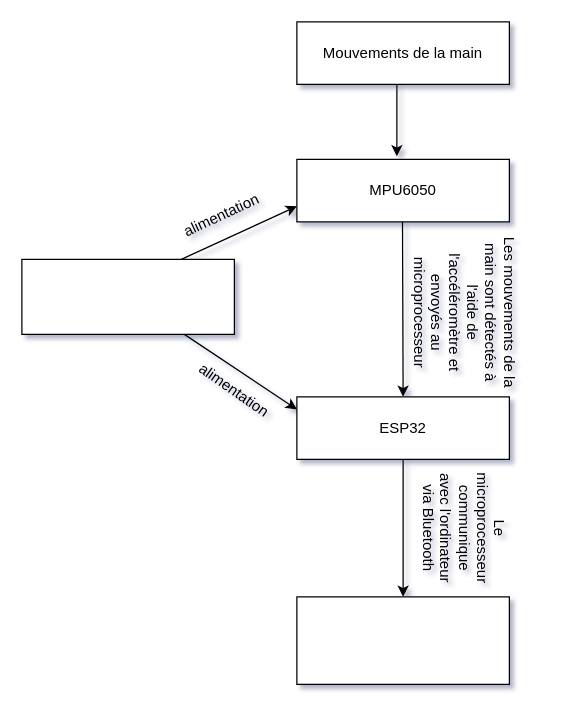
The diagram is 588 pixels wide and 714 high, and some of its shapes have lost their labels. Here are the shapes that lost their labels. From the top down, the centre of each, then its label:
the point at 127,296: LiPo Battery
the point at 402,640: Ordinateur / Ecran d'ordinateur (mouvements du curseur en fonction de la main)
